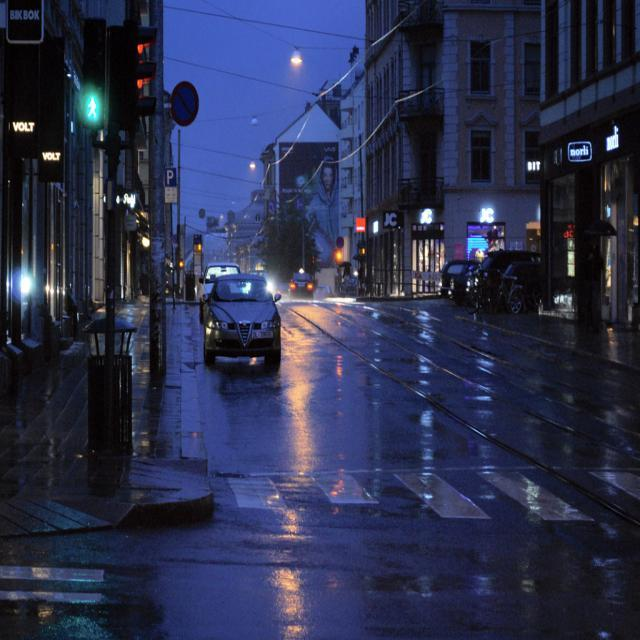traffic light: (79, 18, 106, 134), (133, 21, 156, 132)
